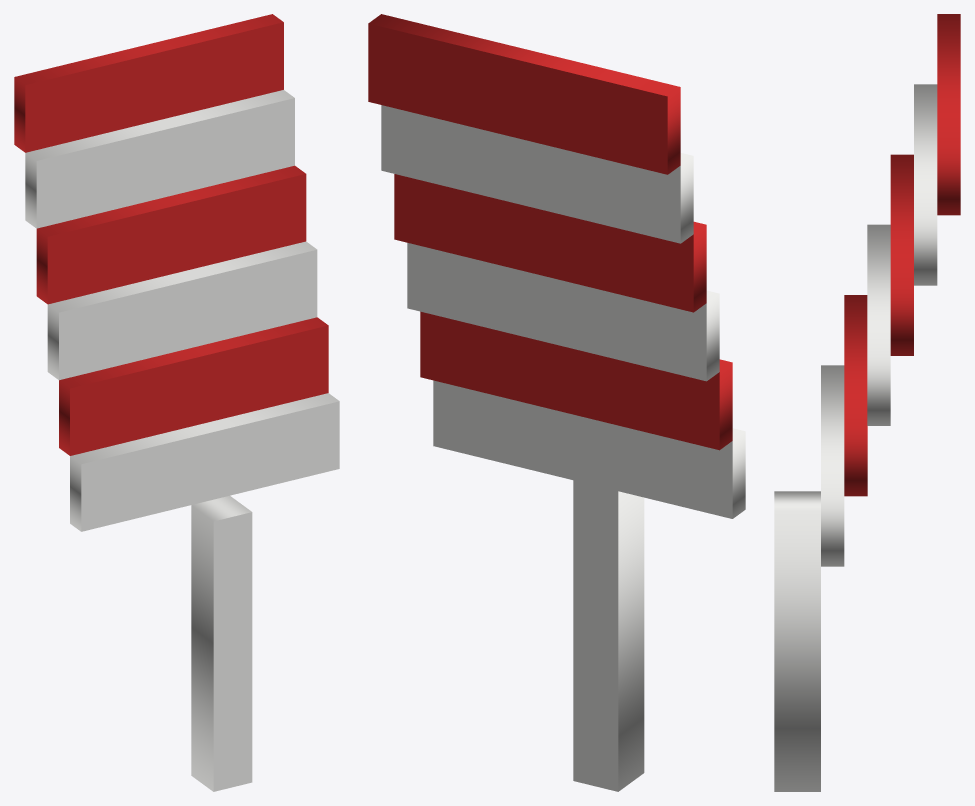
3 views of the same model, side by side, from view 1: azimuth 30°, elevation 25°; view 2: azimuth 150°, elevation 25°; view 3: azimuth 270°, elevation 25° (orthographic). The views are drawn at different scales.
Visible parts, largest first — view 1: J13_b225, J13_b150, J13_b375, J13_b00, J13_b300, J13_b75, J13_r450; view 2: J13_b00, J13_r450, J13_b150, J13_b75, J13_b300, J13_b375, J13_b225; view 3: J13_r450, J13_b00, J13_b225, J13_b300, J13_b375, J13_b75, J13_b150.
Boxes of the visible parts, <box> form: J13_b225: <box>47,241,317,380</box>; J13_b150: <box>36,165,306,304</box>; J13_b375: <box>70,393,339,531</box>; J13_b00: <box>14,14,283,152</box>; J13_b300: <box>59,317,328,455</box>; J13_b75: <box>25,90,294,228</box>; J13_r450: <box>191,495,252,791</box>; J13_b00: <box>368,14,680,174</box>; J13_r450: <box>573,480,644,791</box>; J13_b150: <box>394,174,706,312</box>; J13_b75: <box>381,105,693,243</box>; J13_b300: <box>420,311,732,450</box>; J13_b375: <box>433,380,745,518</box>; J13_b225: <box>407,243,719,381</box>; J13_r450: <box>774,491,820,791</box>; J13_b00: <box>937,14,960,215</box>; J13_b225: <box>867,224,890,425</box>; J13_b300: <box>844,295,867,496</box>; J13_b375: <box>821,365,844,566</box>; J13_b75: <box>914,84,937,285</box>; J13_b150: <box>890,154,913,355</box>.
Bounding box in the file's own units: 0.4 × 1 × 0.24.
